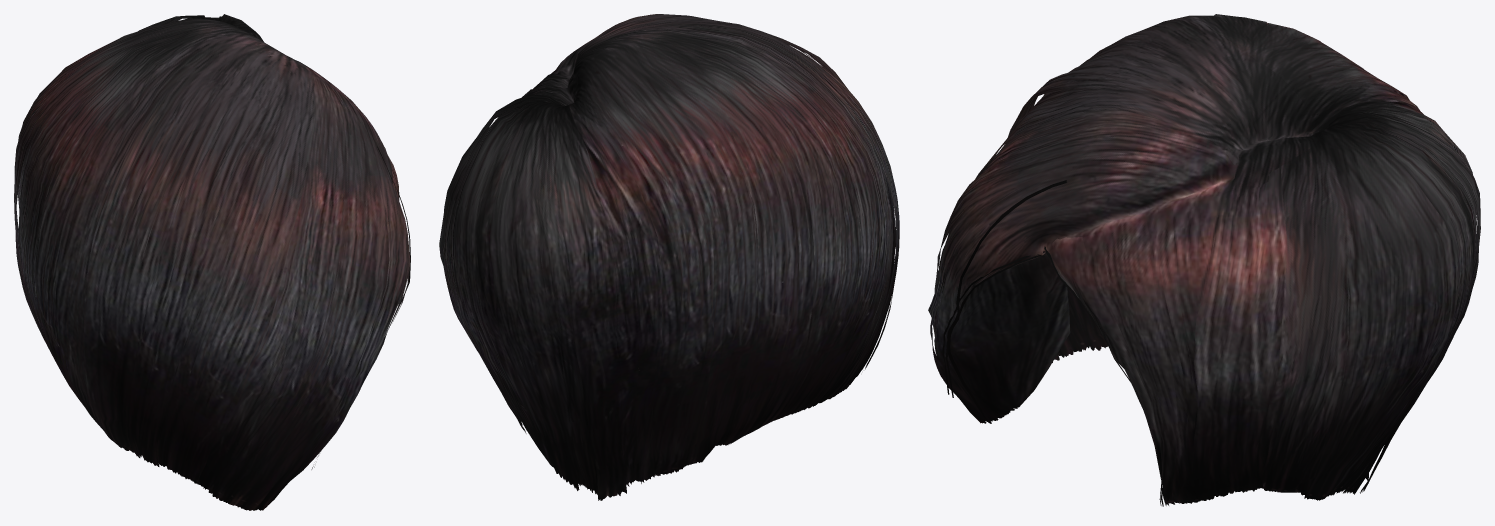
File: mh_bob01.glb
3 renders of one model, left to right at view 1: azimuth 30°, elevation 25°; view 2: azimuth 150°, elevation 25°; view 3: azimuth 270°, elevation 25°, orthographic. The views are drawn at different scales.
Visible parts, largest first — view 1: mh_bob01; view 2: mh_bob01; view 3: mh_bob01.
Part boxes in pixels (box(x1,y1,x2,y2)): mh_bob01: box(14, 14, 410, 510); mh_bob01: box(439, 14, 899, 500); mh_bob01: box(928, 14, 1480, 506).
Size of the model in its own units: 0.2312 by 0.26 by 0.2867.
Materials: 1 (1 with a texture image).
